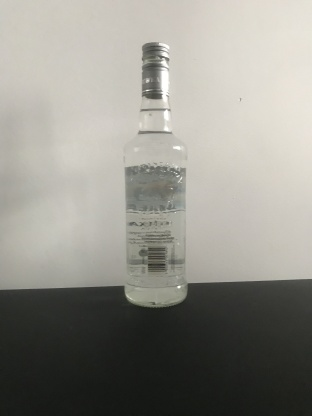nakretka: (140, 40, 170, 99)
